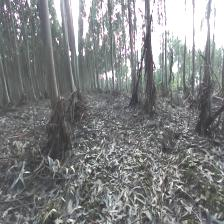trunk: (40, 5, 58, 105), (61, 17, 77, 96)
